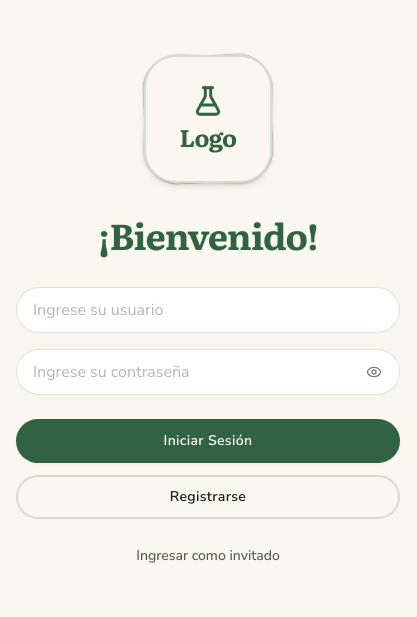
it: LoginView Component › shows error message when submitted with empty fields
The image size is (417, 617).
Click the button "Iniciar Sesión": (208, 441) [16,419,400,463]
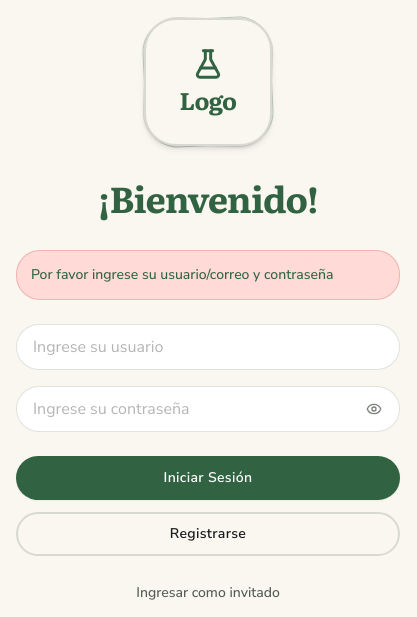
Now the text "Por favor ingrese su usuario/correo y contraseña" is shown, box [16,250,400,300]
